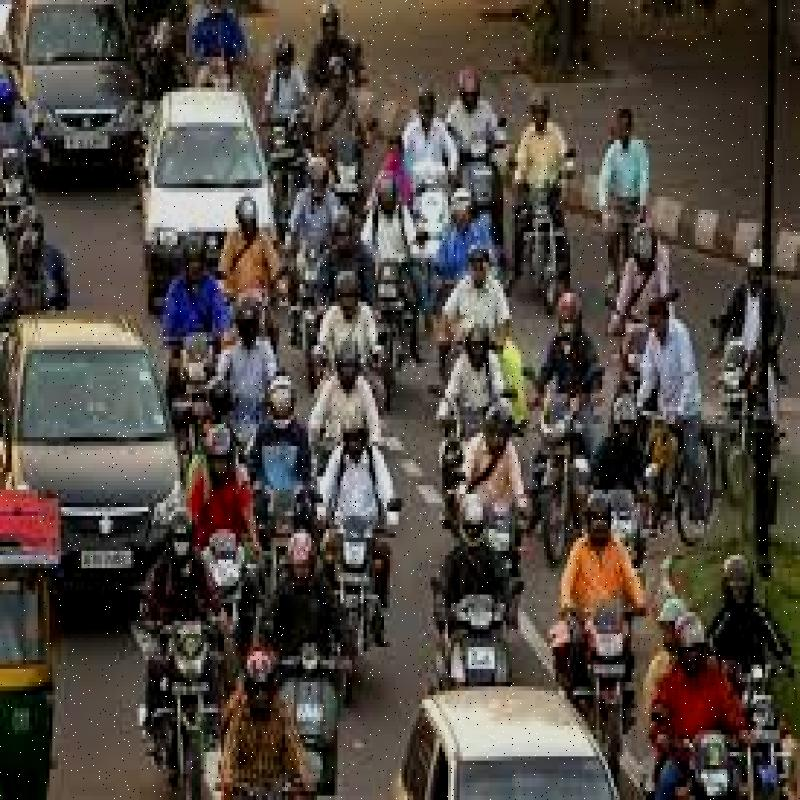bike: (545, 585, 656, 779), (309, 507, 396, 671), (156, 615, 220, 793), (439, 570, 519, 710), (654, 710, 757, 800), (284, 649, 344, 782)
car: (0, 296, 192, 623), (131, 76, 286, 308), (8, 0, 156, 182)
